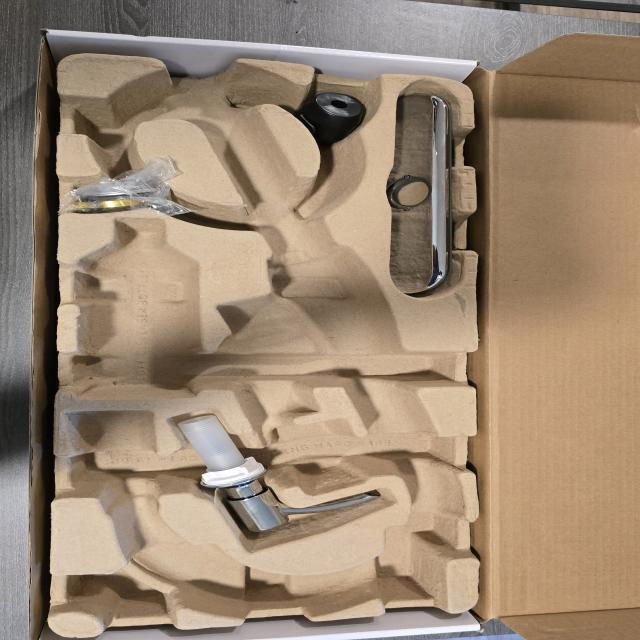1m: (65, 63, 459, 618)
2: (178, 415, 376, 532)
3m: (74, 219, 200, 402)
4: (384, 94, 447, 295)
5: (297, 91, 368, 144)
6: (59, 152, 192, 215)
7m: (73, 81, 178, 152)
